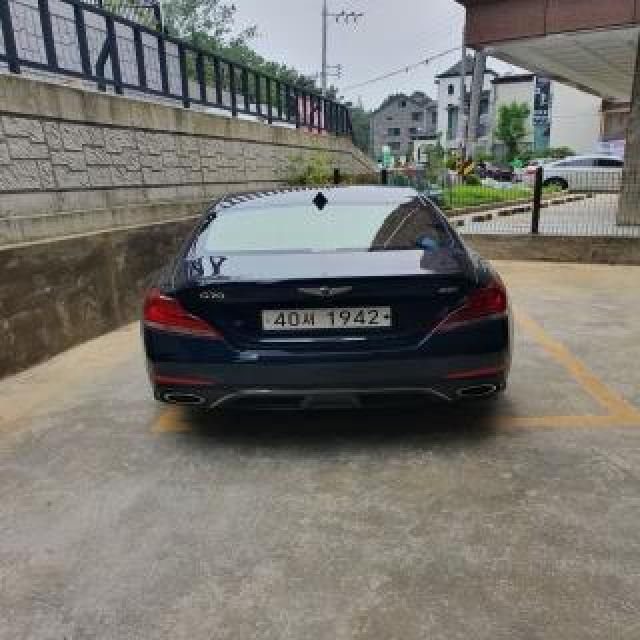car: (139, 172, 521, 425)
illegal_plate: (256, 302, 397, 335)
